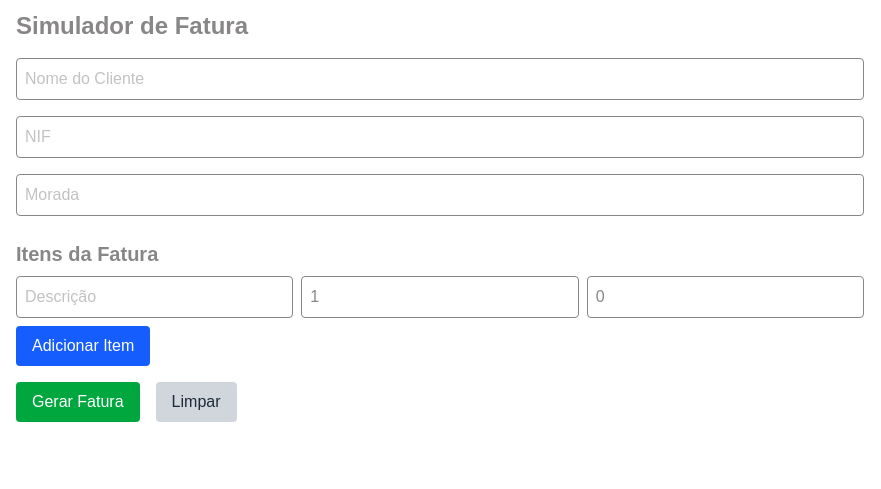
Test: can add a new item
Click the button "Adicionar Item" at [83, 346], box [16,326,150,366]
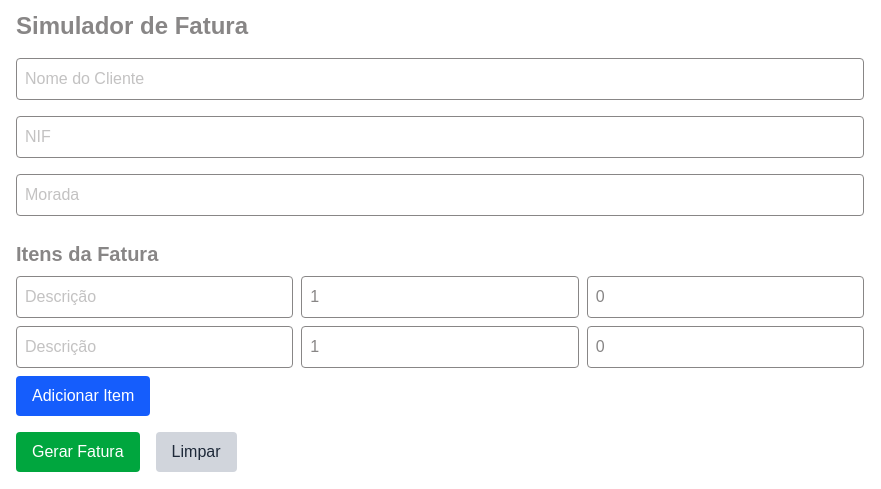
Result: the number of fields with placeholder "Descrição" is 2 at [16,276,293,318]; [16,326,293,368]
